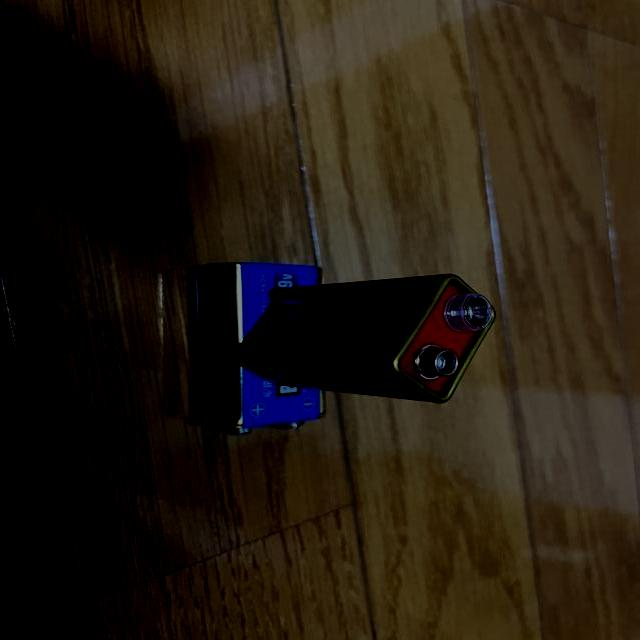9V: (233, 272, 496, 404), (191, 261, 325, 437)
